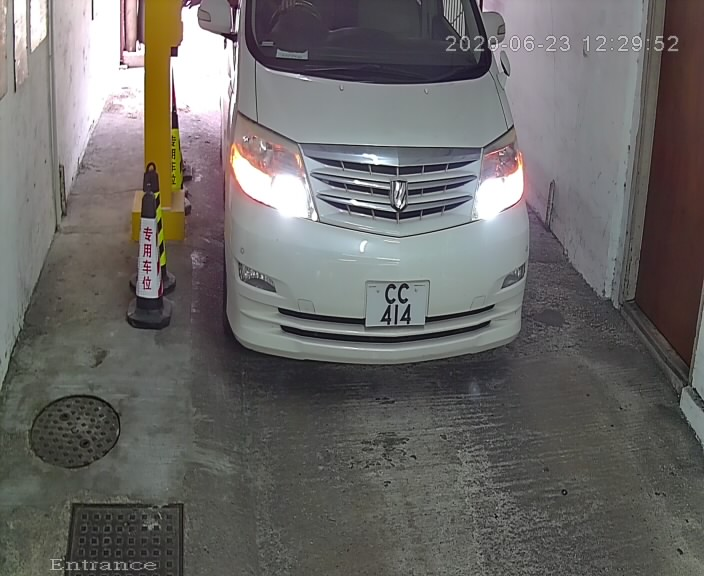privatecar: (184, 1, 544, 400)
